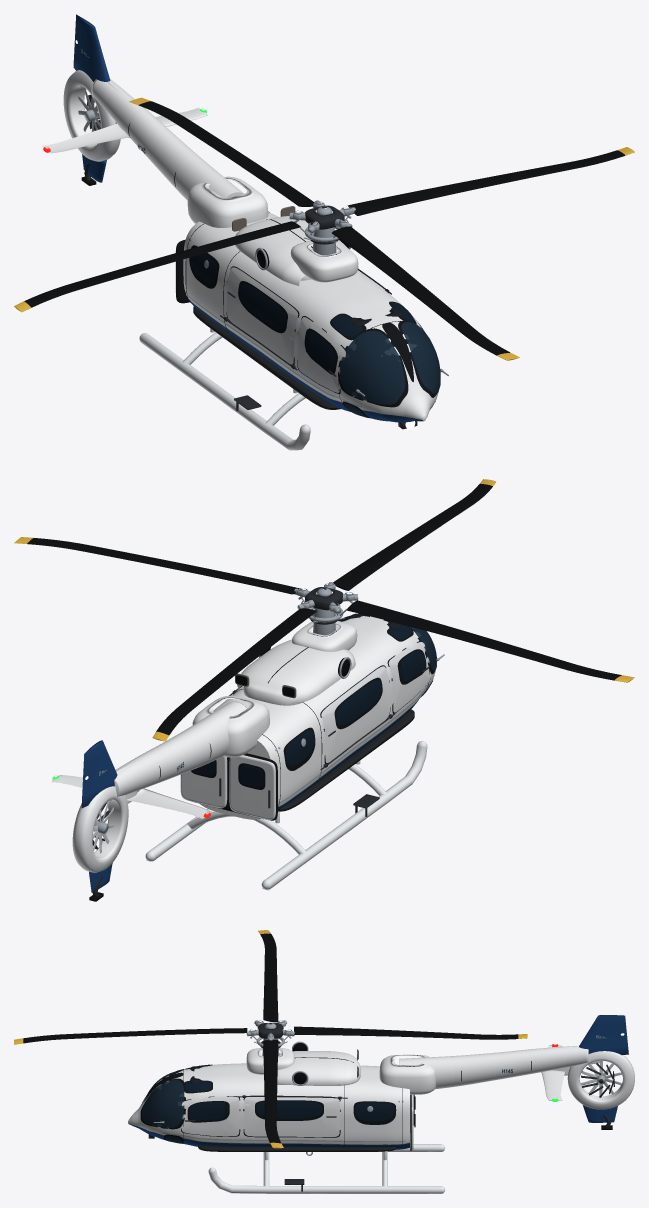
3 views of the same model, one above another, from view 1: azimuth 30°, elevation 25°; view 2: azimuth 150°, elevation 25°; view 3: azimuth 270°, elevation 25° (orthographic). The views are drawn at different scales.
Parts seen in each view (by area): view 1: Fuselage_cabine, Poutre_de_queue, sliding_door_lh, windshield_lh, Pale_principale_4, Pale_principale_1, boom_root_fairing, Pale_principale_3, cockpit_door_lh, skid_tube_lh, Care_nage_Fenestron, Pale_principale_2 (+9 smaller); view 2: Fuselage_cabine, Poutre_de_queue, sliding_door_lh, Care_nage_Fenestron, Pale_principale_3, clamshell_door_lh, engine_lh, Pale_principale_2, Pale_principale_4, skid_tube_lh, Pale_principale_1, boom_root_fairing (+12 smaller); view 3: Fuselage_cabine, Poutre_de_queue, sliding_door_rh, Care_nage_Fenestron, cockpit_door_rh, skid_tube_rh, Derive_verticale, engine_rh, windshield_rh, Pale_principale_2, boom_root_fairing, Pale_principale_1 (+10 smaller).
Part boxes in pixels (x1,y1,x2,y2): Fuselage_cabine: (183,211,438,422); Poutre_de_queue: (91,79,244,200); sliding_door_lh: (220,266,299,370); windshield_lh: (338,328,408,407); Pale_principale_4: (332,226,519,360); Pale_principale_1: (347,147,634,215); boom_root_fairing: (187,176,268,227); Pale_principale_3: (14,221,300,312); cockpit_door_lh: (297,316,345,393); skid_tube_lh: (139,333,310,450); Care_nage_Fenestron: (63,70,120,161); Pale_principale_2: (129,97,314,206); Fuselage_cabine: (200,616,435,819); Poutre_de_queue: (110,701,246,800); sliding_door_lh: (320,665,395,770); Care_nage_Fenestron: (72,786,128,872); Pale_principale_3: (346,600,634,682); clamshell_door_lh: (229,754,277,820); engine_lh: (266,647,355,703); Pale_principale_2: (152,608,317,741); Pale_principale_4: (333,479,495,590); skid_tube_lh: (261,741,427,890); Pale_principale_1: (14,537,302,594); boom_root_fairing: (192,695,269,757); Fuselage_cabine: (128,1063,410,1149); Poutre_de_queue: (399,1046,588,1089); sliding_door_rh: (238,1095,347,1137); Care_nage_Fenestron: (567,1051,634,1109); cockpit_door_rh: (181,1096,240,1136); skid_tube_rh: (208,1167,444,1193); Derive_verticale: (579,1015,628,1122); engine_rh: (277,1057,357,1084); windshield_rh: (140,1078,185,1129); Pale_principale_2: (294,1026,527,1039); boom_root_fairing: (379,1054,436,1094); Pale_principale_1: (263,1039,283,1148).
Size of what is drawn, in the model's own units: 11 by 3.71 by 13.3.
Materials: 26 (2 with a texture image).
